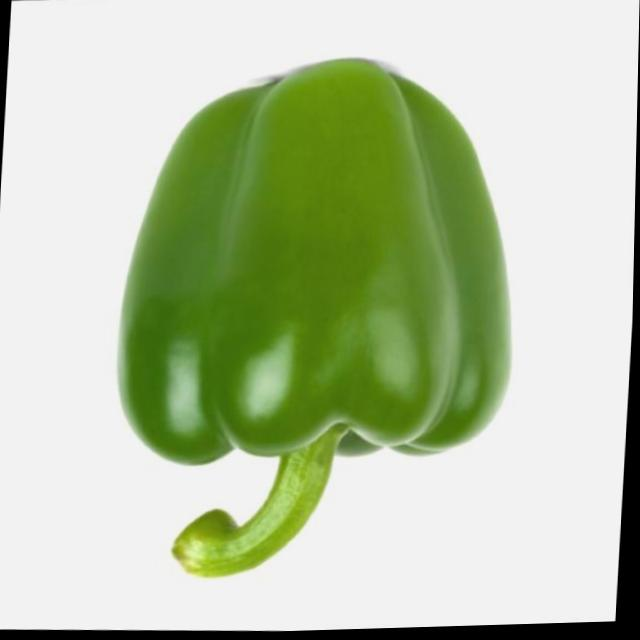Capsicum: (104, 43, 532, 489)
